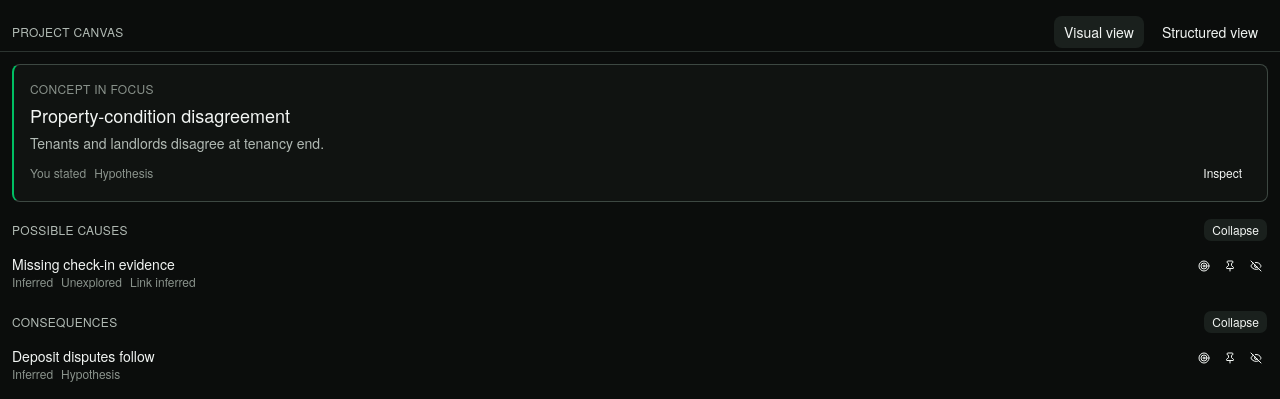
Test case: problem-exploration renderer › refocuses on a related object and returns to the previous scene
Click the button named "Focus on Missing check-in evidence". click: [1204, 266]
box: [1192,254,1216,278]
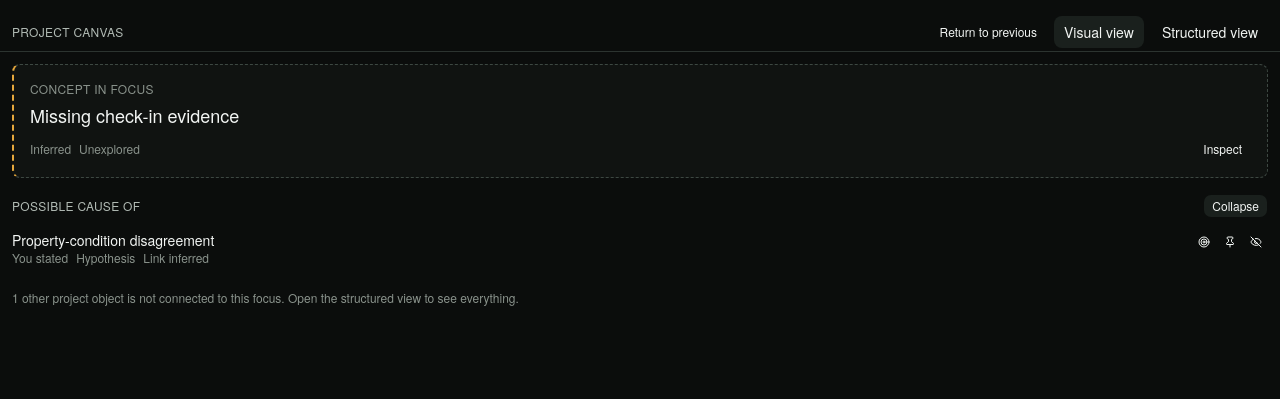
Expected: the element named "Object in focus" shows "Missing check-in evidence", [30,102,239,128]
Click the button "Return to previous". click: [988, 32]
box: [931,20,1046,44]
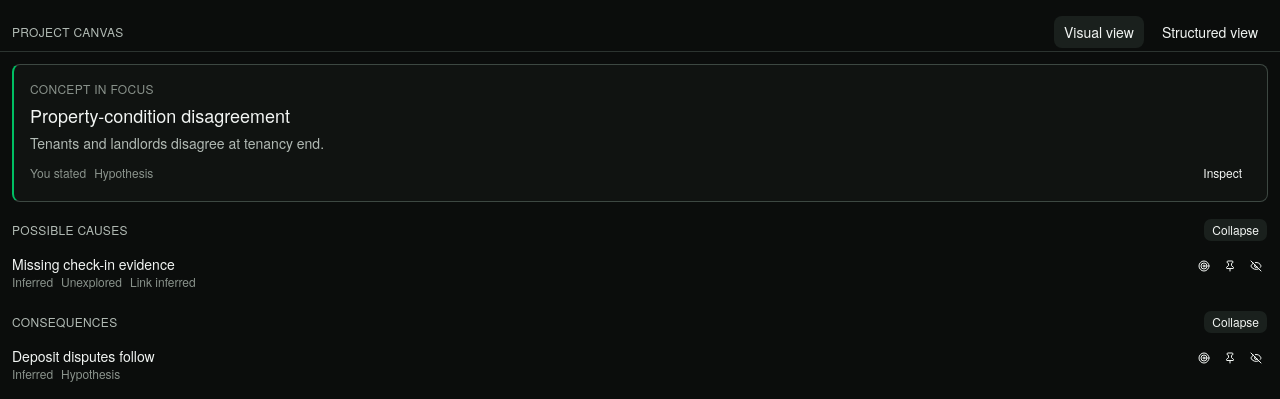
Expected: the element named "Object in focus" shows "Property-condition disagreement", [30,102,290,128]
